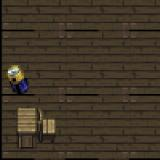Obstacle: (0, 95, 66, 160)
Win: (0, 55, 38, 106)
